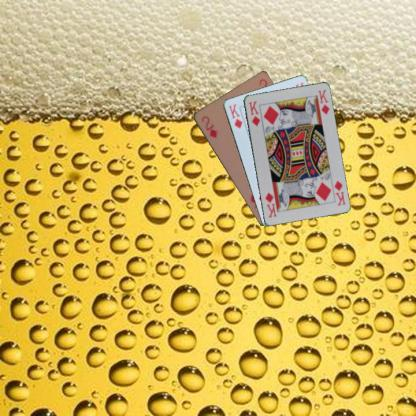2d: (198, 113, 219, 139)
Kd: (226, 101, 243, 130), (246, 98, 261, 127), (332, 178, 346, 207)
